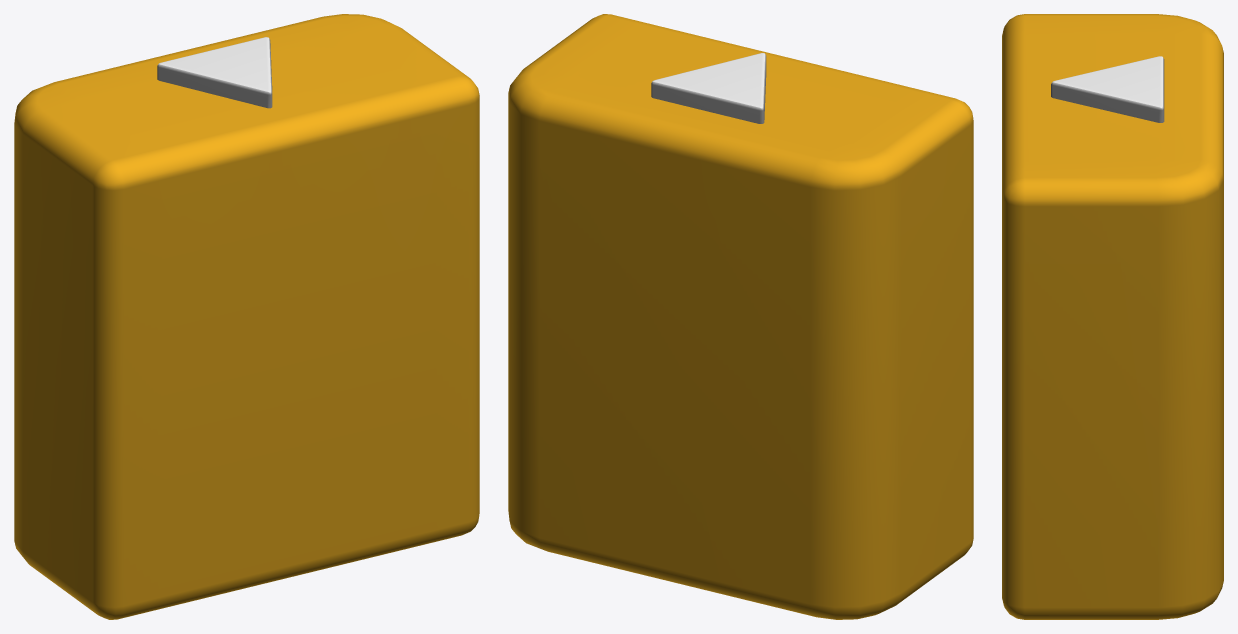
File: Blast_Yellow.fbx
The picture shows the model from 3 angles, left to right: view 1: azimuth 30°, elevation 25°; view 2: azimuth 150°, elevation 25°; view 3: azimuth 270°, elevation 25°; orthographic projection. The views are drawn at different scales.
Parts seen in each view (by area): view 1: Blast_Yellow; view 2: Blast_Yellow; view 3: Blast_Yellow.
Part boxes in pixels (<box>): Blast_Yellow: <box>14,14,479,619</box>; Blast_Yellow: <box>508,14,973,619</box>; Blast_Yellow: <box>1002,14,1223,619</box>.
Bounding box in the file's own units: 1.01 × 1.19 × 0.525.
1 material, 1 textured.
